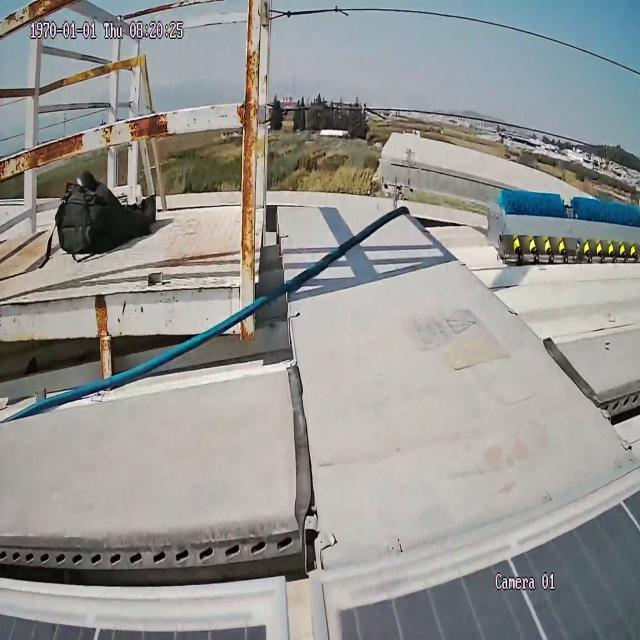interior panel: (273, 579, 329, 636)
outher panel: (4, 297, 640, 581)
